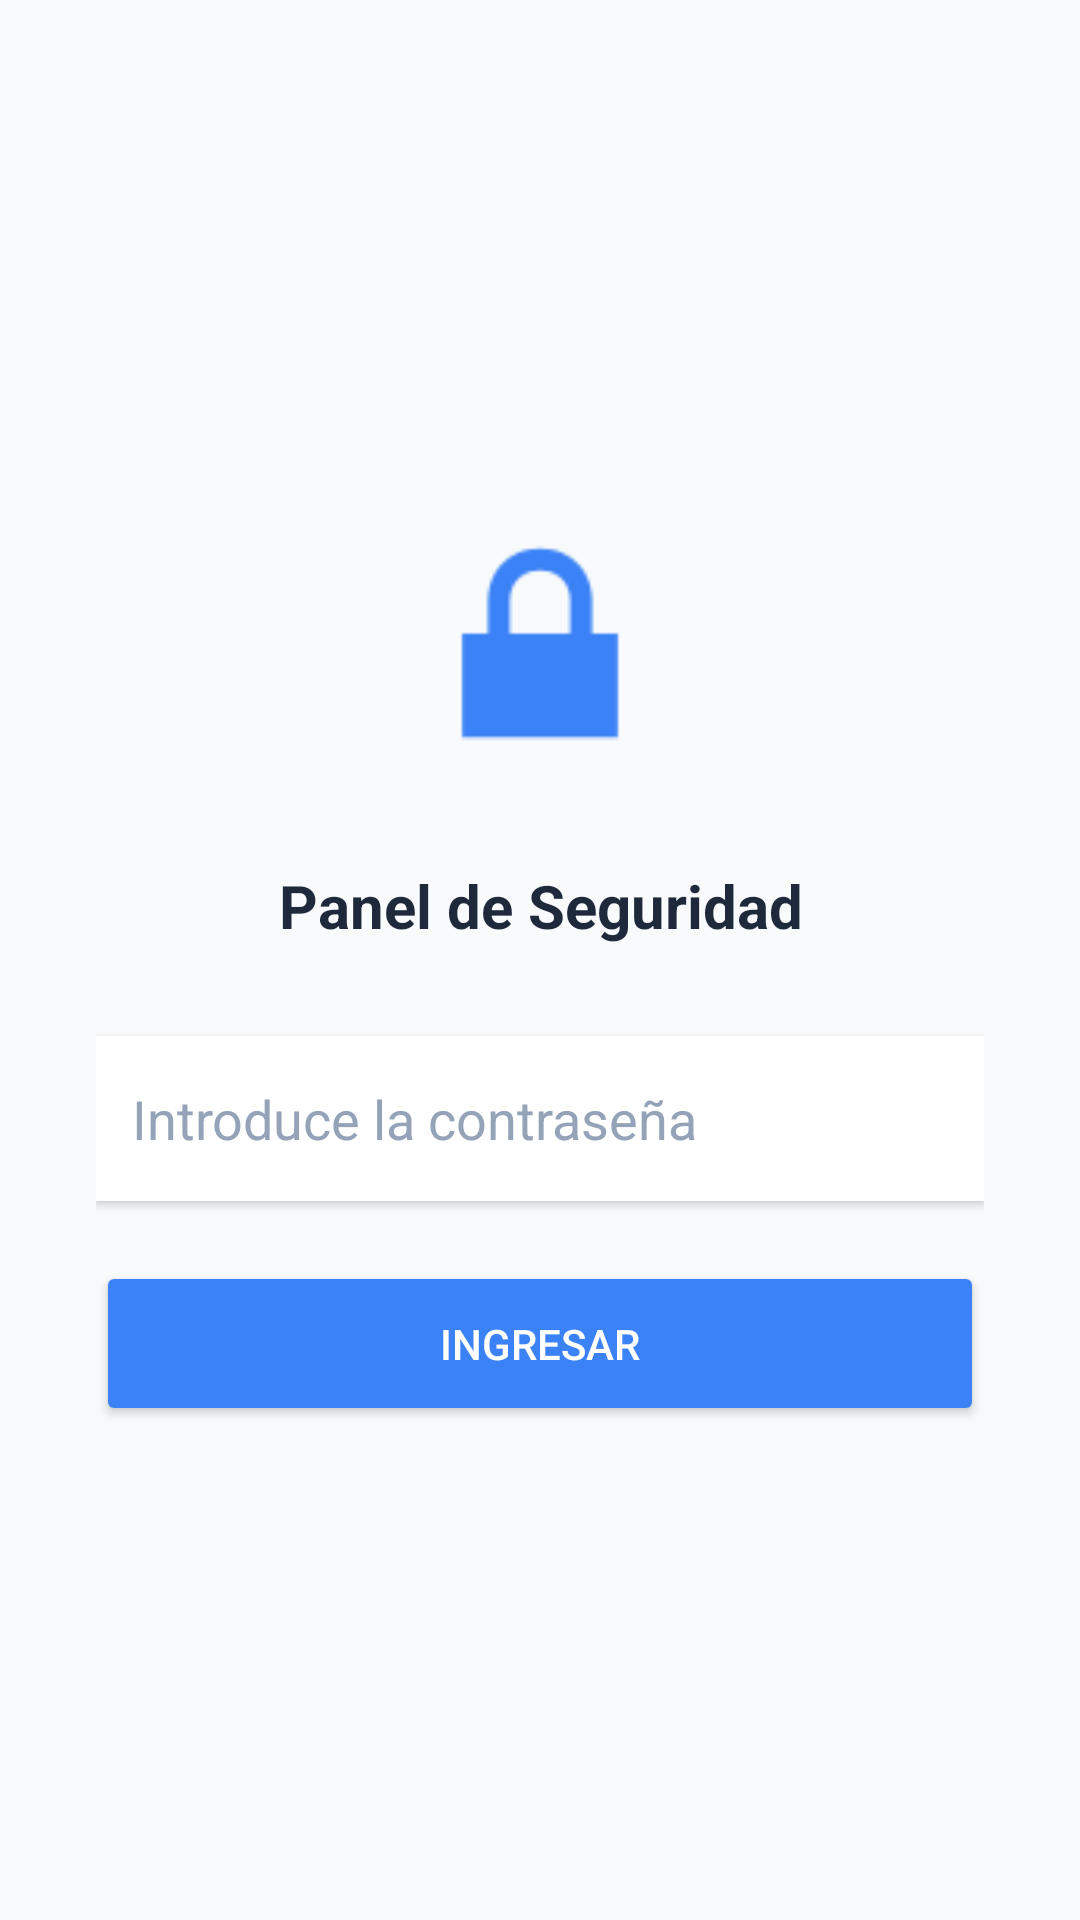

Icon click points for this 1080x1920 phone screenshot, format point (x, y):
lock: point (540, 643)
